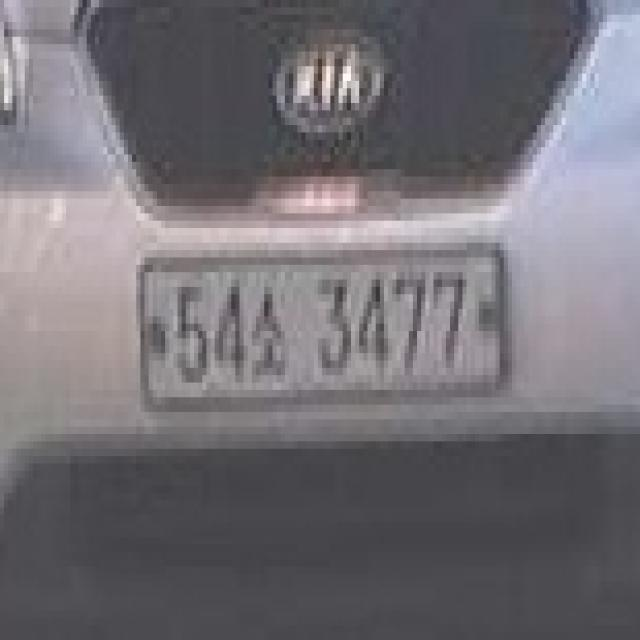3: (314, 265, 355, 390)
4: (355, 265, 396, 390), (215, 279, 252, 390)
5: (170, 279, 207, 412)
7: (429, 265, 471, 382), (392, 265, 434, 375)
license_plate: (128, 236, 512, 420)
so: (244, 272, 289, 375)
